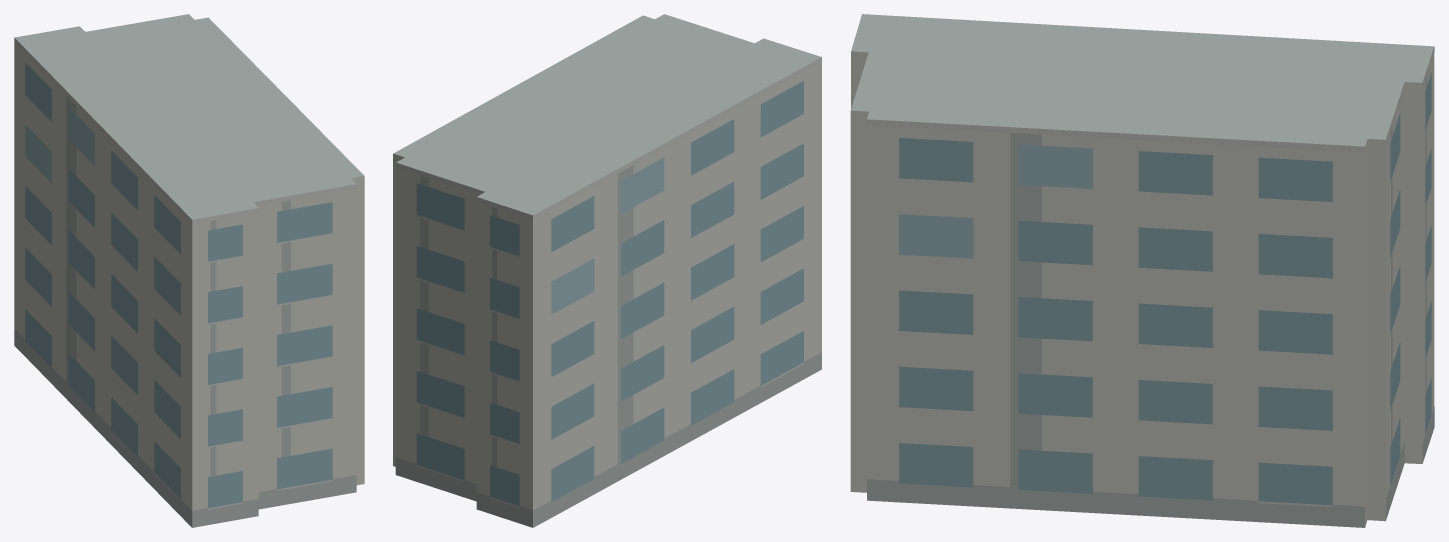
Rendered from survey-upis-32986897.glb.
3 views of the same model, side by side, from view 1: azimuth 30°, elevation 25°; view 2: azimuth 150°, elevation 25°; view 3: azimuth 270°, elevation 25° (orthographic). The views are drawn at different scales.
Parts seen in each view (by area): view 1: survey-upis-32986897.tmp; view 2: survey-upis-32986897.tmp; view 3: survey-upis-32986897.tmp.
Part boxes in pixels (bbox=[...]): survey-upis-32986897.tmp: bbox=[14, 14, 364, 527]; survey-upis-32986897.tmp: bbox=[393, 14, 821, 527]; survey-upis-32986897.tmp: bbox=[850, 14, 1434, 527].
Size of the model in its own units: 11.79 by 15.8 by 21.93.
